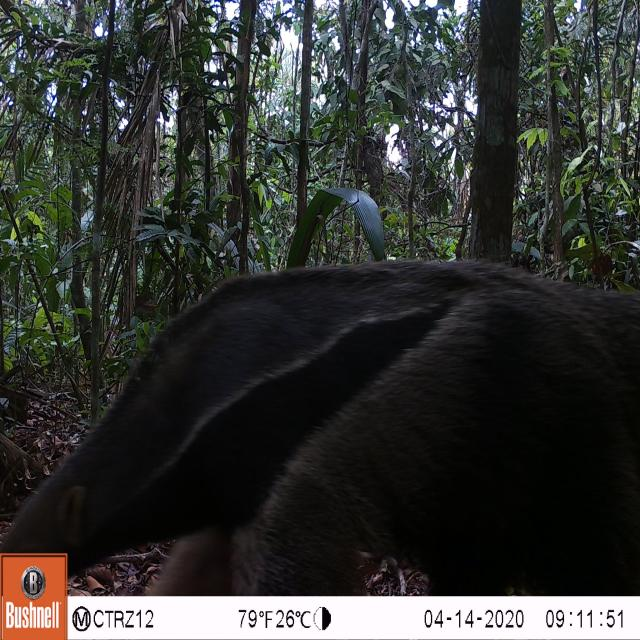Giant Anteater: (2, 244, 640, 592)
